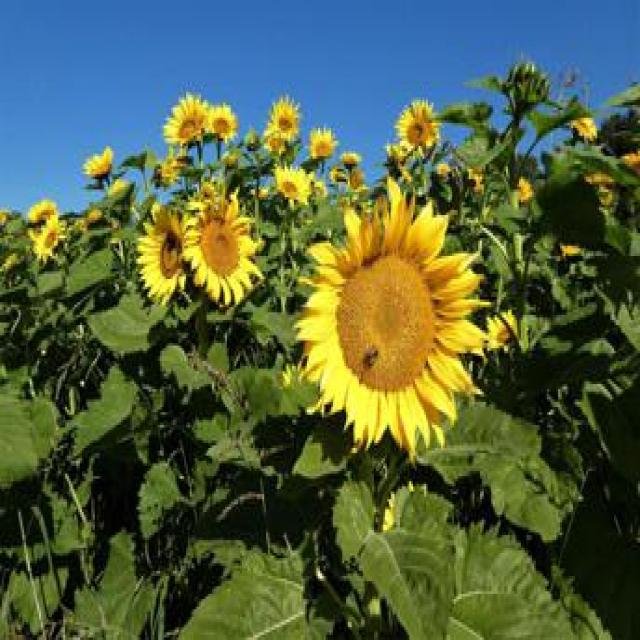sunflower: (298, 181, 510, 462), (182, 187, 265, 307), (126, 194, 190, 304), (390, 91, 444, 168), (156, 87, 212, 151), (268, 155, 316, 206), (30, 210, 72, 266), (258, 100, 304, 146), (74, 145, 118, 183), (306, 121, 343, 162), (208, 102, 240, 144)
